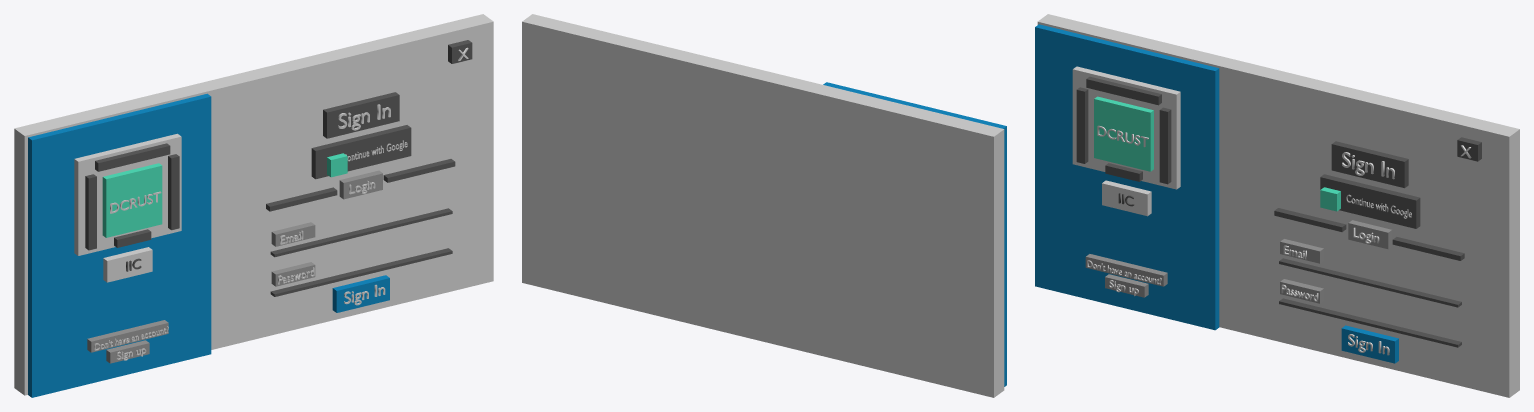
File: iicLogin.glb
3 views of the same model, side by side, from view 1: azimuth 30°, elevation 25°; view 2: azimuth 150°, elevation 25°; view 3: azimuth 330°, elevation 25° (orthographic).
Visible parts, largest first — view 1: Cube.008, Text; view 2: Cube.008; view 3: Cube.008, Text.
Part boxes in pixels (x1,y1,x2,y2): Cube.008: (14,14,493,397); Text: (338,104,390,130); Cube.008: (522,14,1006,397); Cube.008: (1035,14,1519,397); Text: (1342,152,1394,179).
Size of the model in its own units: 19.87 by 10.51 by 1.75.
